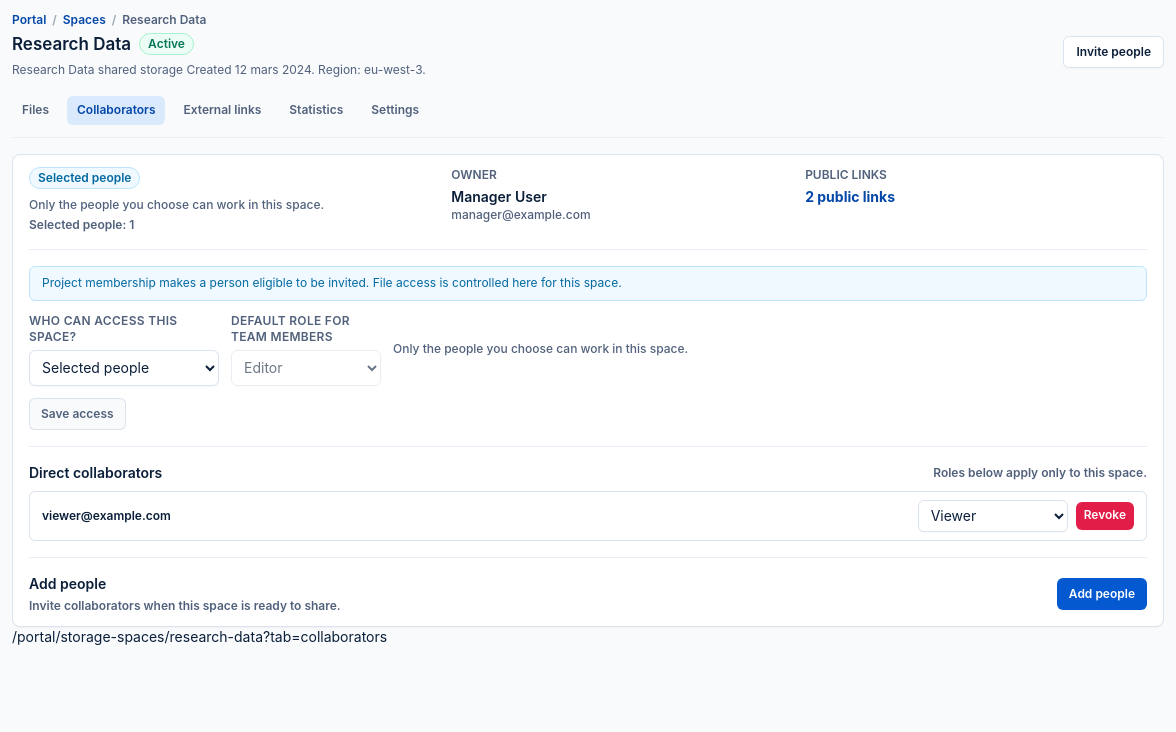
Scenario: PortalStorageSpaceDetailPage › opens the contextual collaborator workflow from a direct link and header action
The image size is (1176, 732).
Expected: the text "Manager User" is shown, [451, 188, 547, 204]
What coordinates should you click on to do the following:
click the button "Invite people"
I would click on:
 (1114, 52)
Its box is [1064, 36, 1164, 68].
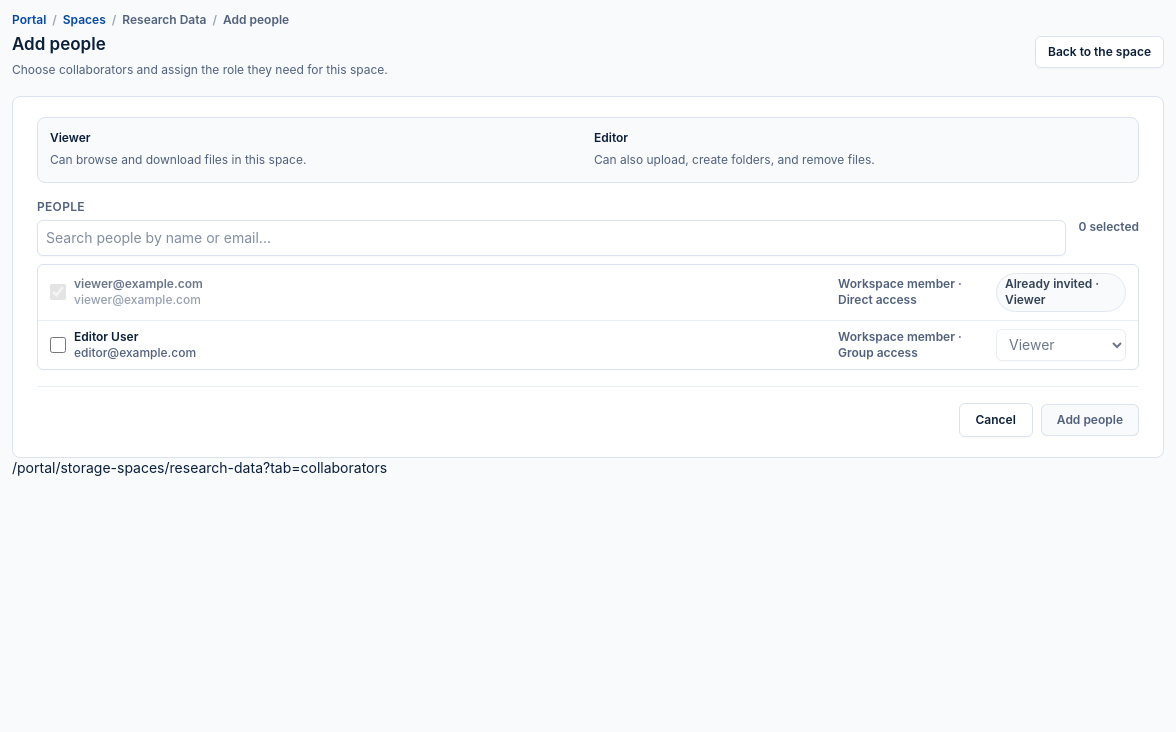
Expected: the heading "Add people" is shown, [12, 32, 106, 56]
Expected: the text "Already invited · Viewer" is shown, [996, 272, 1126, 312]
